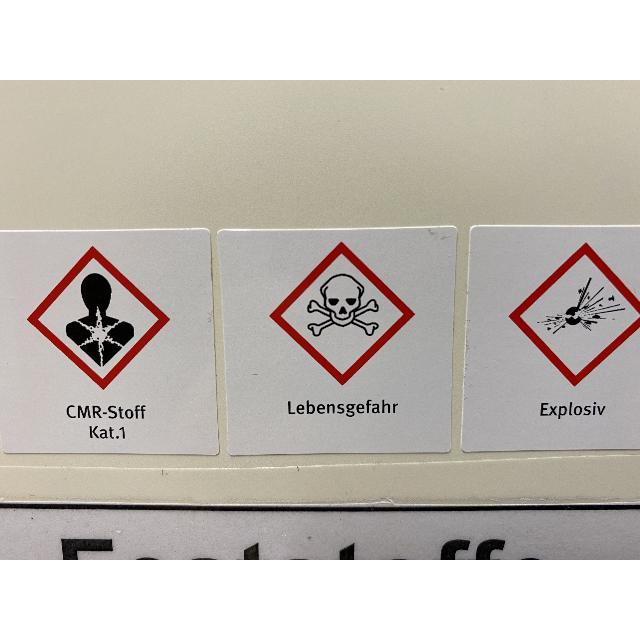acute toxicity: (305, 273, 379, 337)
explosive: (536, 276, 626, 334)
serious health hazard: (66, 273, 136, 365)
